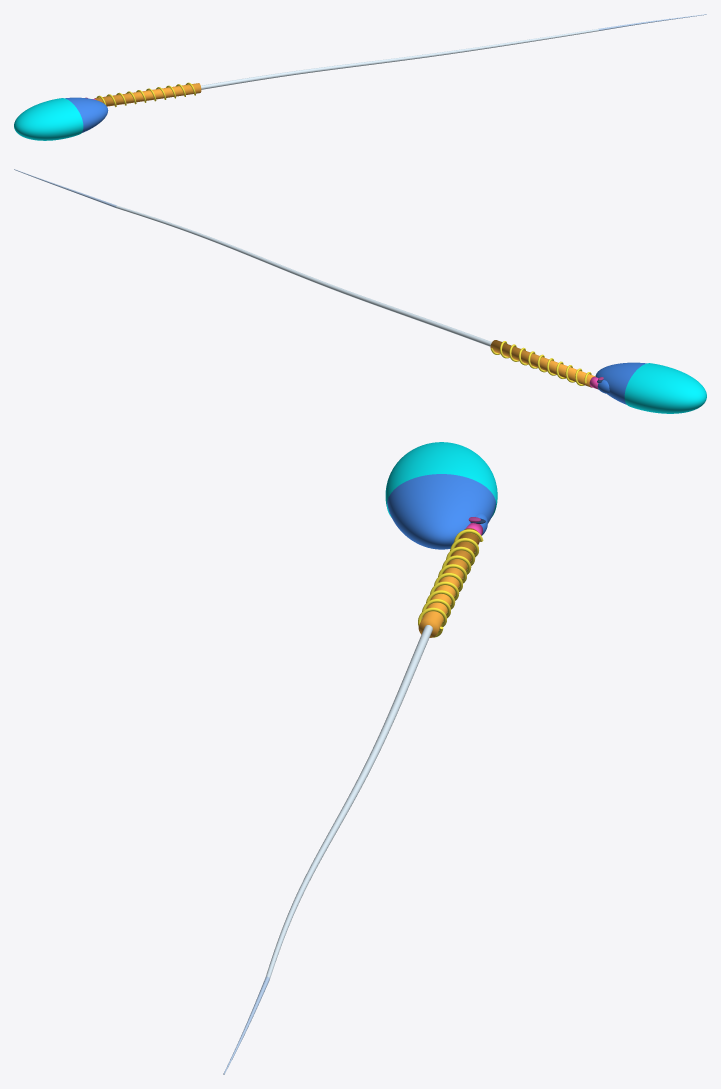
File: 12_Insercion_anomala.glb
3 views of the same model, one above another, from view 1: azimuth 30°, elevation 25°; view 2: azimuth 150°, elevation 25°; view 3: azimuth 270°, elevation 25° (orthographic). The views are drawn at different scales.
Visible parts, largest first — view 1: Cubierta_acrosomal_didactica.001, Cola_pieza_principal.001, Pieza_intermedia_insercion_anomala, Cabeza_nucleo.001, Helice_mitocondrial_insercion_anomala, Cola_pieza_terminal.001; view 2: Cubierta_acrosomal_didactica.001, Cola_pieza_principal.001, Pieza_intermedia_insercion_anomala, Cabeza_nucleo.001, Helice_mitocondrial_insercion_anomala; view 3: Cabeza_nucleo.001, Cubierta_acrosomal_didactica.001, Cola_pieza_principal.001, Helice_mitocondrial_insercion_anomala, Pieza_intermedia_insercion_anomala.
Part boxes in pixels (<box>): Cubierta_acrosomal_didactica.001: <box>14,98,83,140</box>; Cola_pieza_principal.001: <box>201,29,598,89</box>; Pieza_intermedia_insercion_anomala: <box>94,83,201,106</box>; Cabeza_nucleo.001: <box>65,97,108,132</box>; Helice_mitocondrial_insercion_anomala: <box>96,82,195,107</box>; Cola_pieza_terminal.001: <box>598,14,706,30</box>; Cubierta_acrosomal_didactica.001: <box>624,363,706,413</box>; Cola_pieza_principal.001: <box>116,205,491,346</box>; Pieza_intermedia_insercion_anomala: <box>490,340,595,387</box>; Cabeza_nucleo.001: <box>595,362,646,404</box>; Helice_mitocondrial_insercion_anomala: <box>491,341,591,385</box>; Cabeza_nucleo.001: <box>387,474,495,549</box>; Cubierta_acrosomal_didactica.001: <box>385,442,497,517</box>; Cola_pieza_principal.001: <box>266,625,432,978</box>; Helice_mitocondrial_insercion_anomala: <box>418,529,483,637</box>; Pieza_intermedia_insercion_anomala: <box>418,528,479,637</box>.
Bounding box in the file's own units: 60.95 × 2.93 × 11.38.
